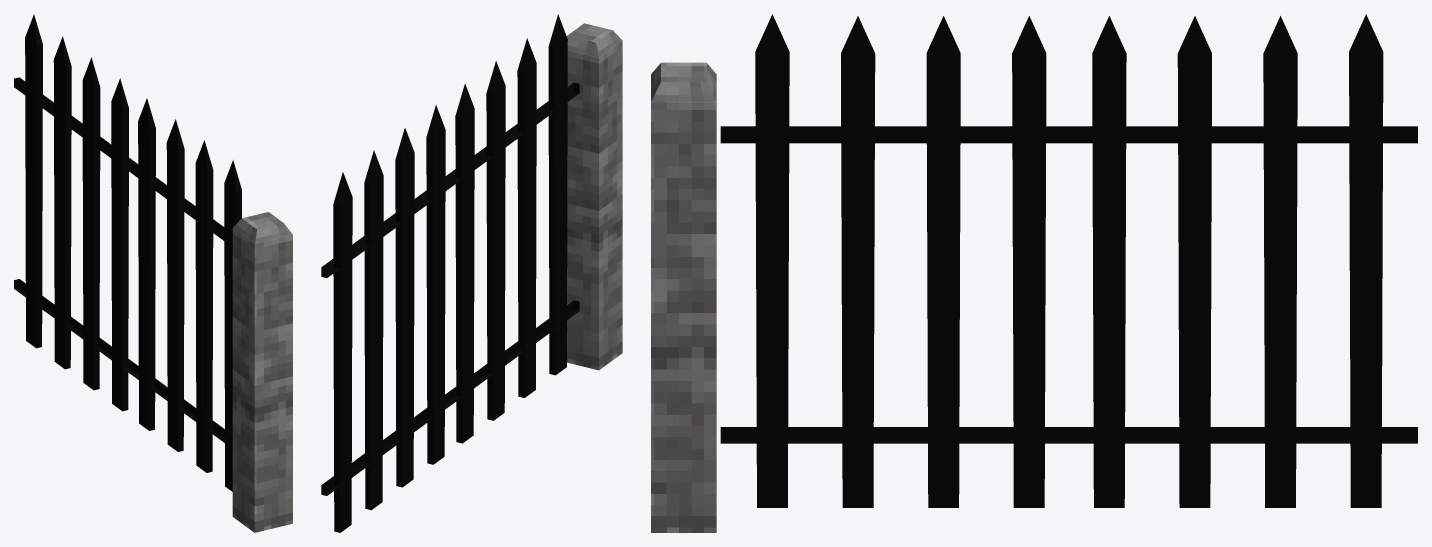
Rendered from gatefence.glb.
The picture shows the model from 3 angles, left to right: view 1: azimuth 30°, elevation 25°; view 2: azimuth 150°, elevation 25°; view 3: azimuth 270°, elevation 25°; orthographic projection. The views are drawn at different scales.
Parts seen in each view (by area): view 1: Cube.006, Cube.005; view 2: Cube.006, Cube.005; view 3: Cube.006, Cube.005.
Boxes of the visible parts, x1=… form: Cube.006: x1=14, y1=14, x2=241, y2=491; Cube.005: x1=232, y1=212, x2=292, y2=532; Cube.006: x1=321, y1=14, x2=579, y2=532; Cube.005: x1=567, y1=23, x2=622, y2=370; Cube.006: x1=720, y1=14, x2=1417, y2=507; Cube.005: x1=651, y1=62, x2=716, y2=532.
Size of the model in its own units: 1.17 by 9.95 by 13.69.
Materials: 2 (1 with a texture image).
